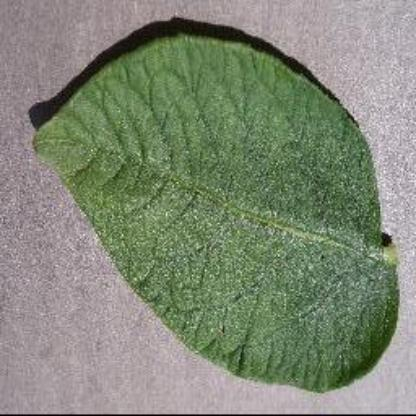Healthy-plant: (9, 28, 406, 392)
